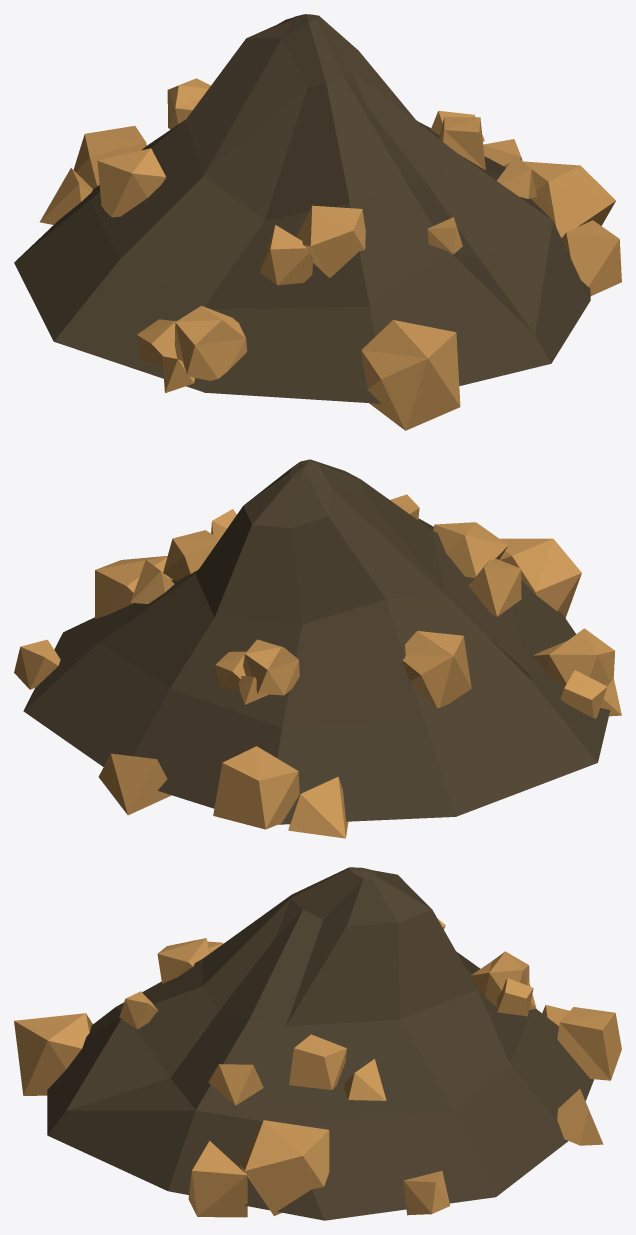
The model's file is res_ore_gold.gltf.
The picture shows the model from 3 angles, top to bottom: view 1: azimuth 30°, elevation 25°; view 2: azimuth 150°, elevation 25°; view 3: azimuth 270°, elevation 25°; orthographic projection. The views are drawn at different scales.
Parts seen in each view (by area): view 1: res_ore_gold; view 2: res_ore_gold; view 3: res_ore_gold.
Boxes of the visible parts, <box> form: res_ore_gold: <box>14,14,621,430</box>; res_ore_gold: <box>14,459,621,838</box>; res_ore_gold: <box>14,867,621,1220</box>.
Size of the model in its own units: 0.193 by 0.0927 by 0.2012.
Materials: 1 (1 with a texture image).
